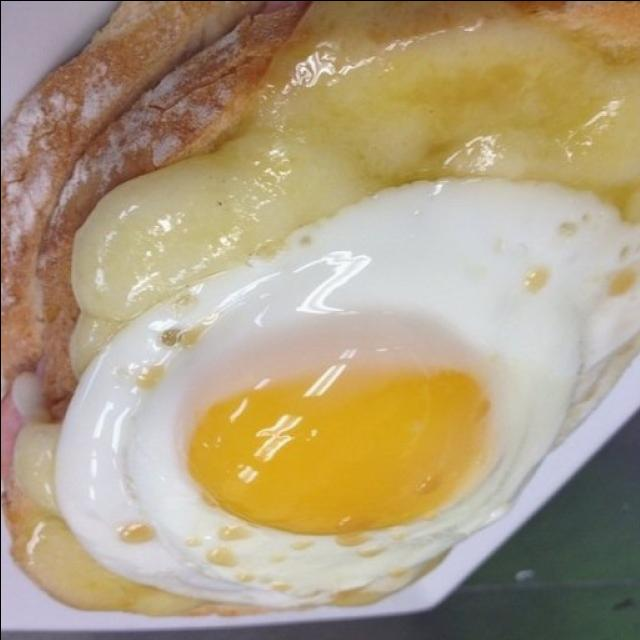telur ceplok: (66, 178, 640, 602)
